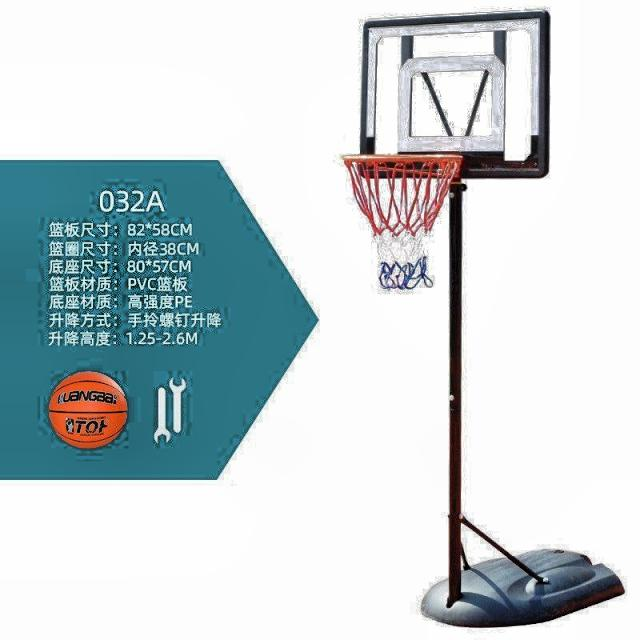rim: (348, 153, 461, 288)
